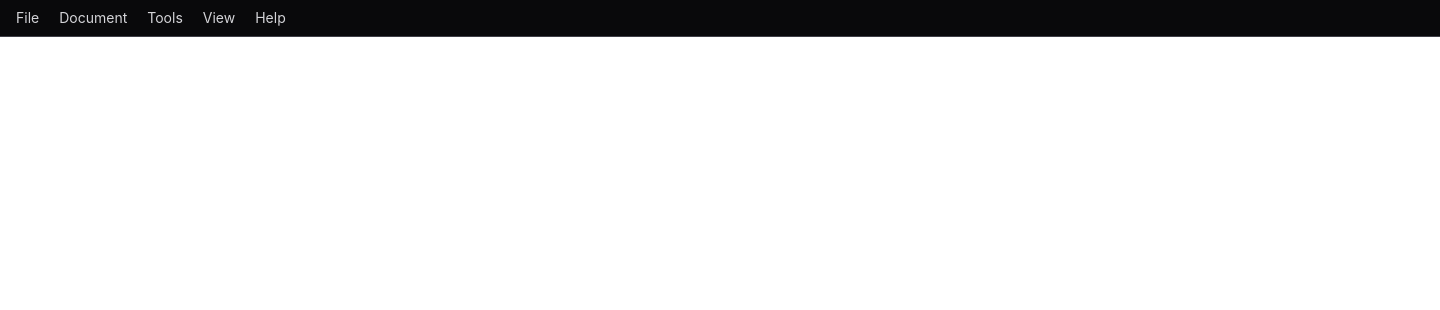
Scenario: MenuBar › shows only Two-page spread in the View menu when no document is open
Click the button with test id "menu-view": (219, 18) x1=195 y1=4 x2=243 y2=32
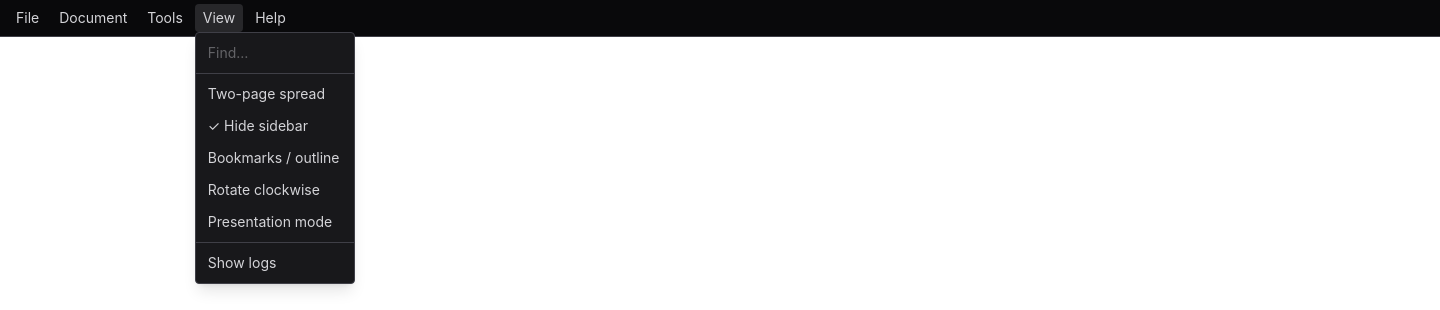
Now the button "Two-page spread" is shown, box x1=196 y1=78 x2=354 y2=110
